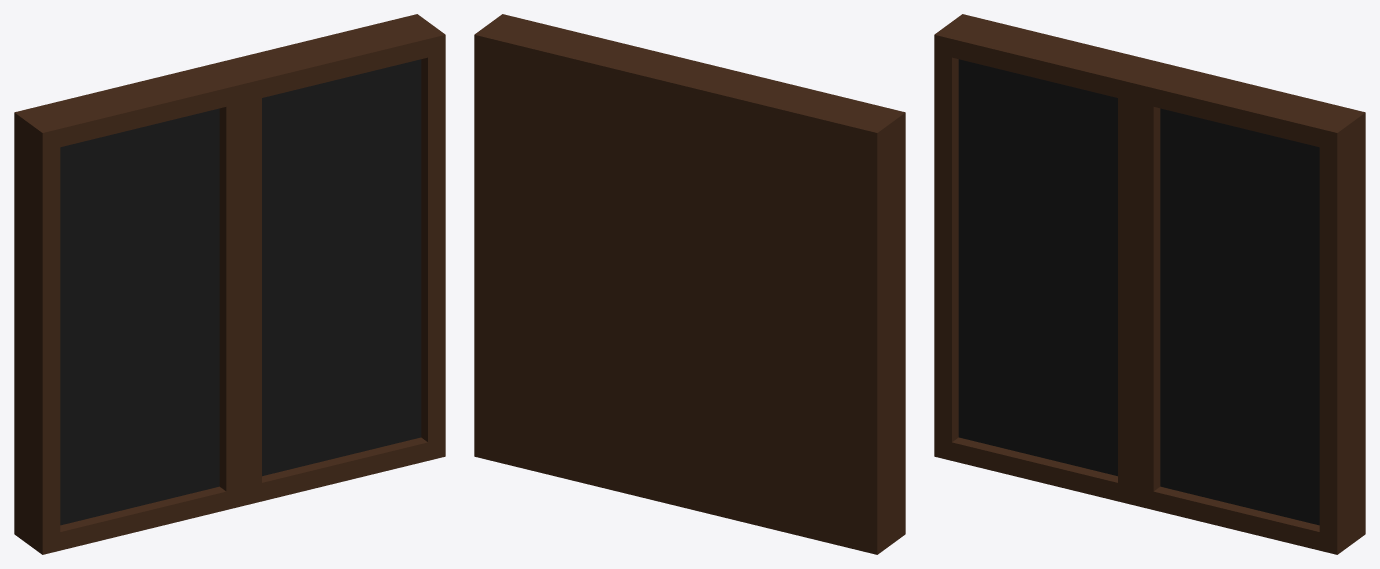
The model's file is CasinoDoor-transformed.glb.
The picture shows the model from 3 angles, left to right: view 1: azimuth 30°, elevation 25°; view 2: azimuth 150°, elevation 25°; view 3: azimuth 330°, elevation 25°; orthographic projection.
Visible parts, largest first — view 1: CasinoDoor; view 2: CasinoDoor; view 3: CasinoDoor.
Part boxes in pixels (x1,y1,x2,y2): CasinoDoor: [14, 14, 445, 554]; CasinoDoor: [474, 14, 905, 554]; CasinoDoor: [934, 14, 1365, 554].
Bounding box in the file's own units: 2 × 2 × 0.2432.
